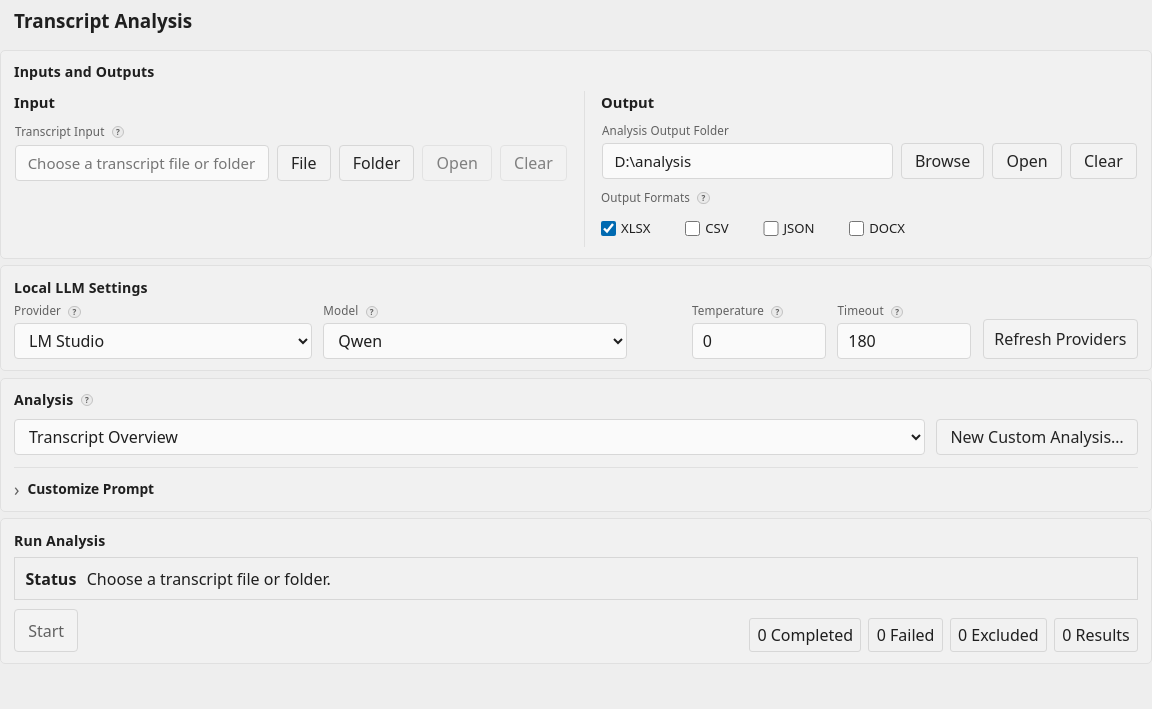
Test: Transcript Analysis page › allows a failed cancellation to be retried and clears the old error after success
This screenshot has width=1152, height=709.
Click the button "File" at (304, 163), box [277,145,331,181]
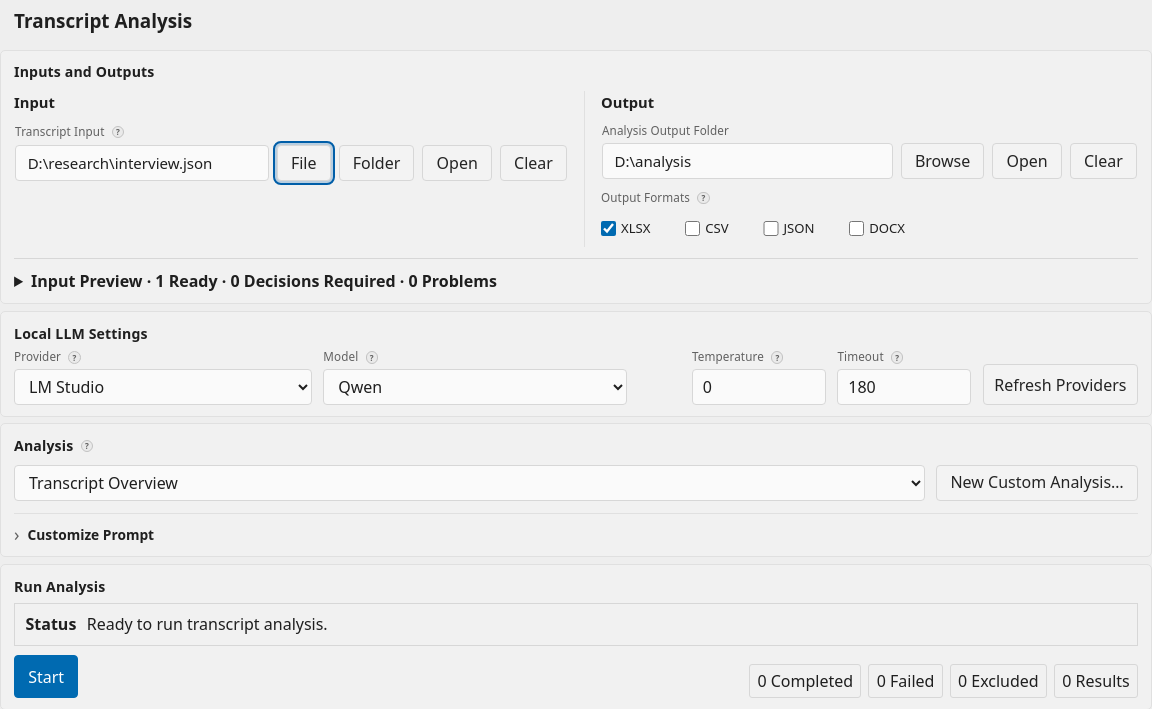
Expected: the button "Start" is enabled
Click the button "Start" at (46, 677), box [14,655,78,698]
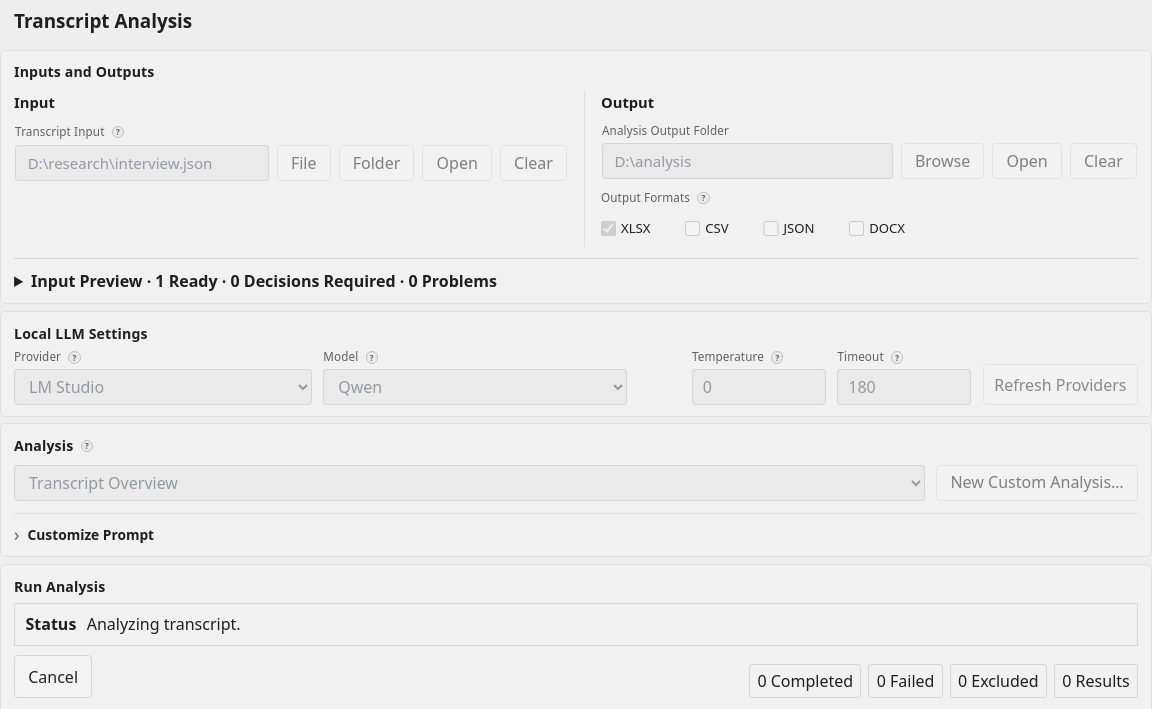
Click the button "Cancel" at (53, 677), box [14,655,92,698]
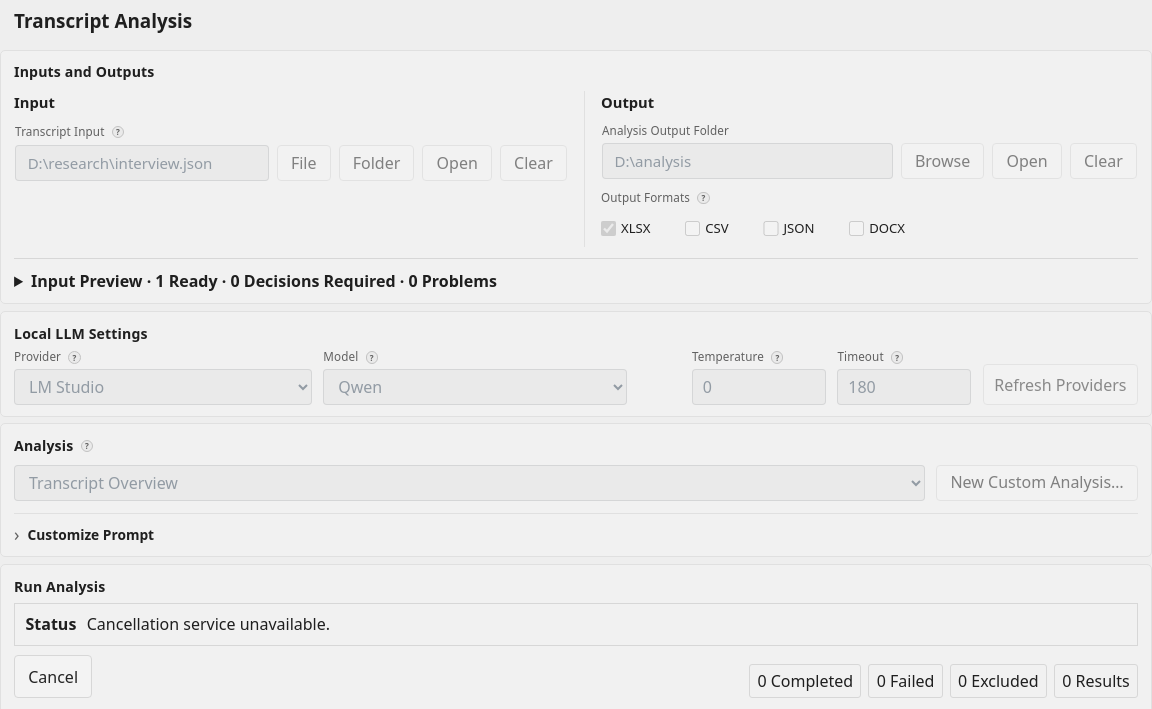
Expected: the button "Cancel" is enabled
Expected: the text "Cancellation service unavailable." is shown, [87,613,330,635]
Click the button "Cancel" at (53, 677), box [14,655,92,698]
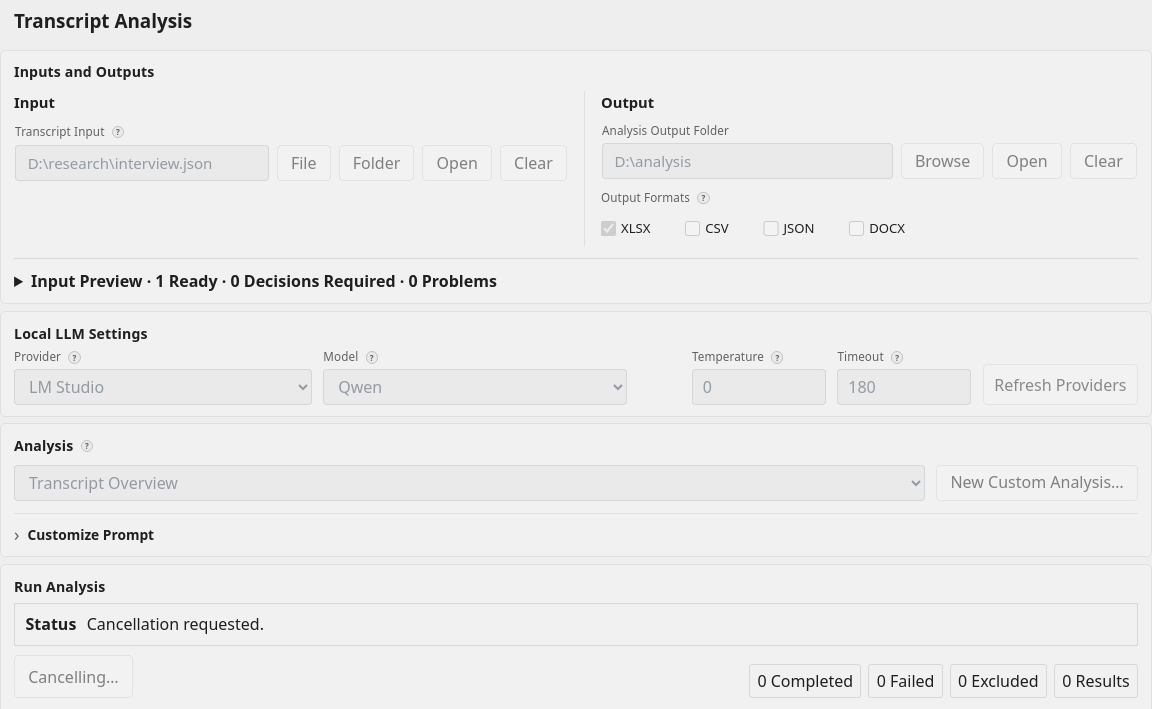
Expected: the button "Cancelling…" is disabled, [14,655,133,698]
Expected: the text "Cancellation service unavailable." is gone
